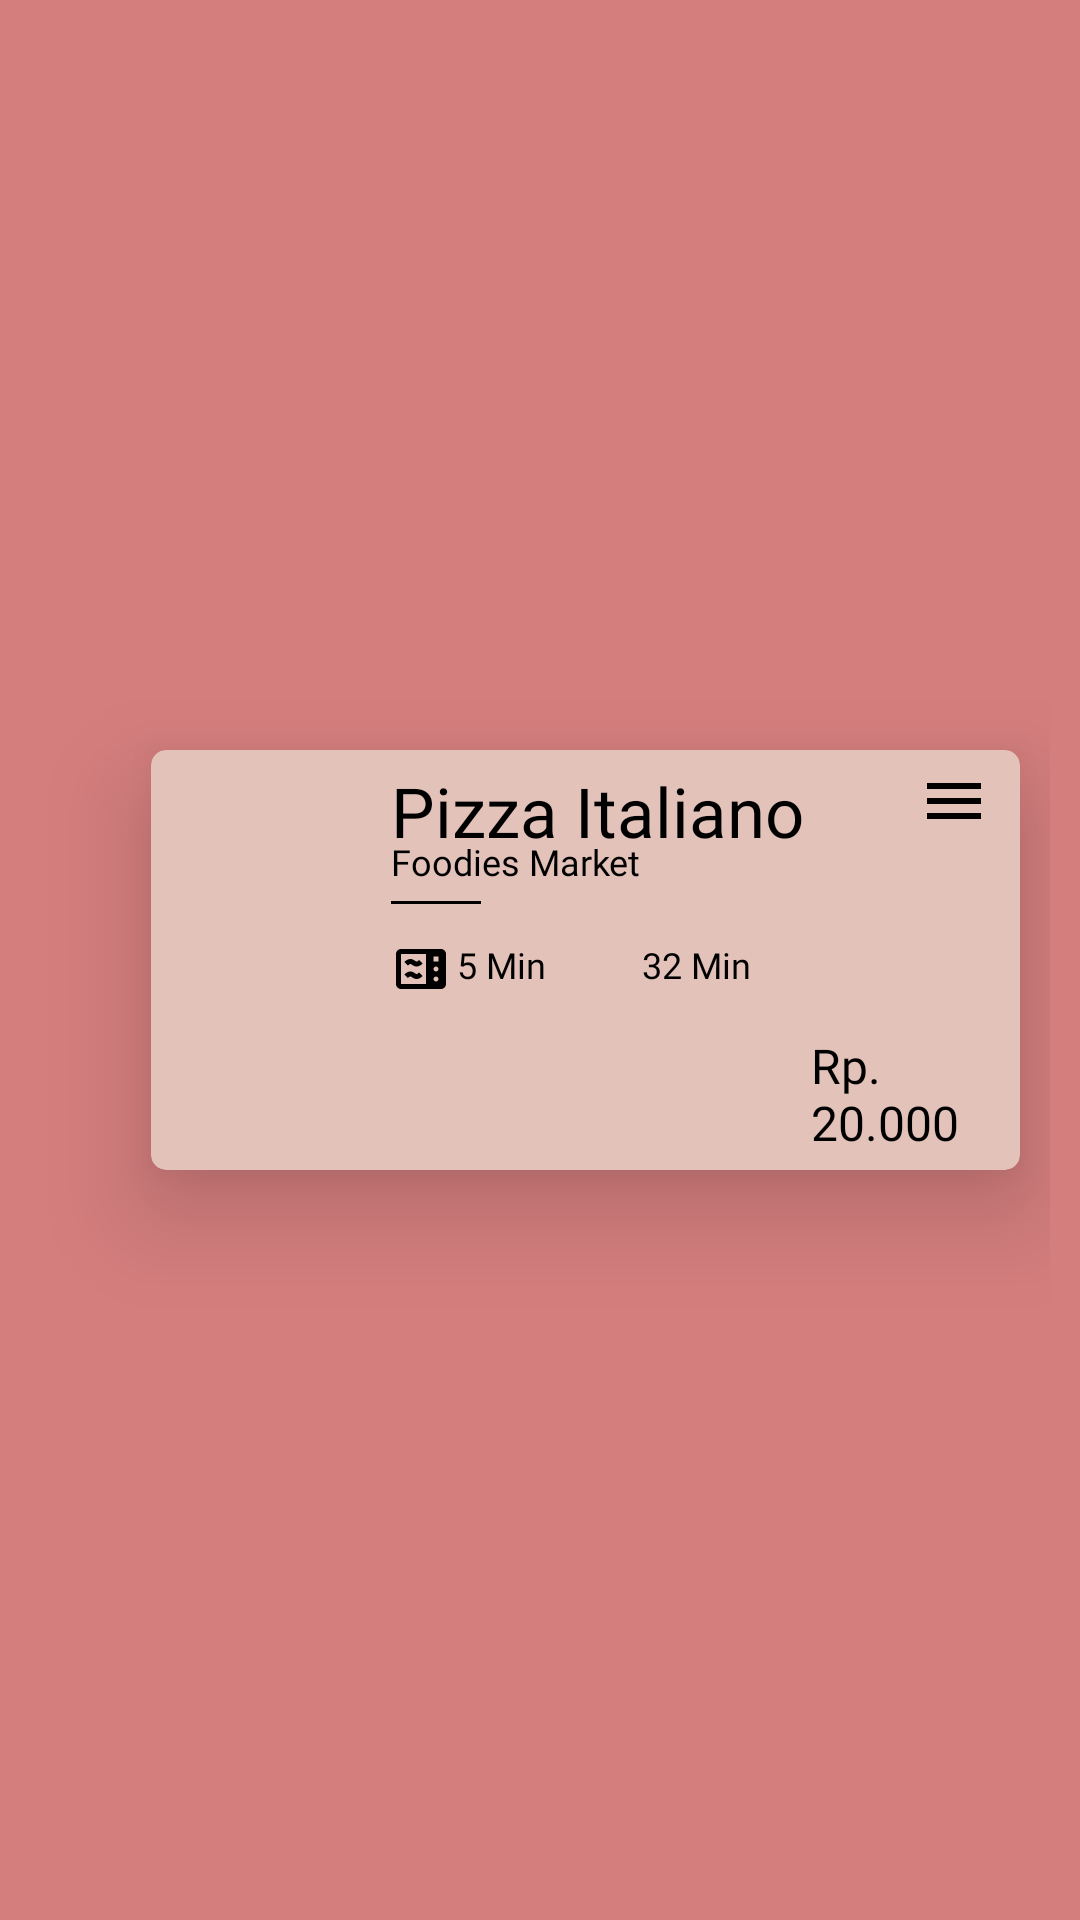

Screen size 1080*1920. Icon name, then its box in pixels as (x1, y1, x2, y2):
menu: (927, 783, 981, 819)
microwave: (396, 949, 446, 989)
